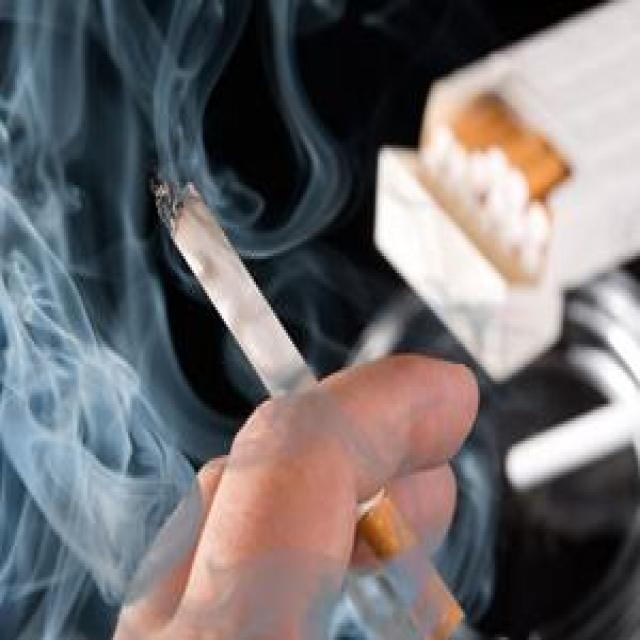cigarette: (142, 164, 329, 403)
